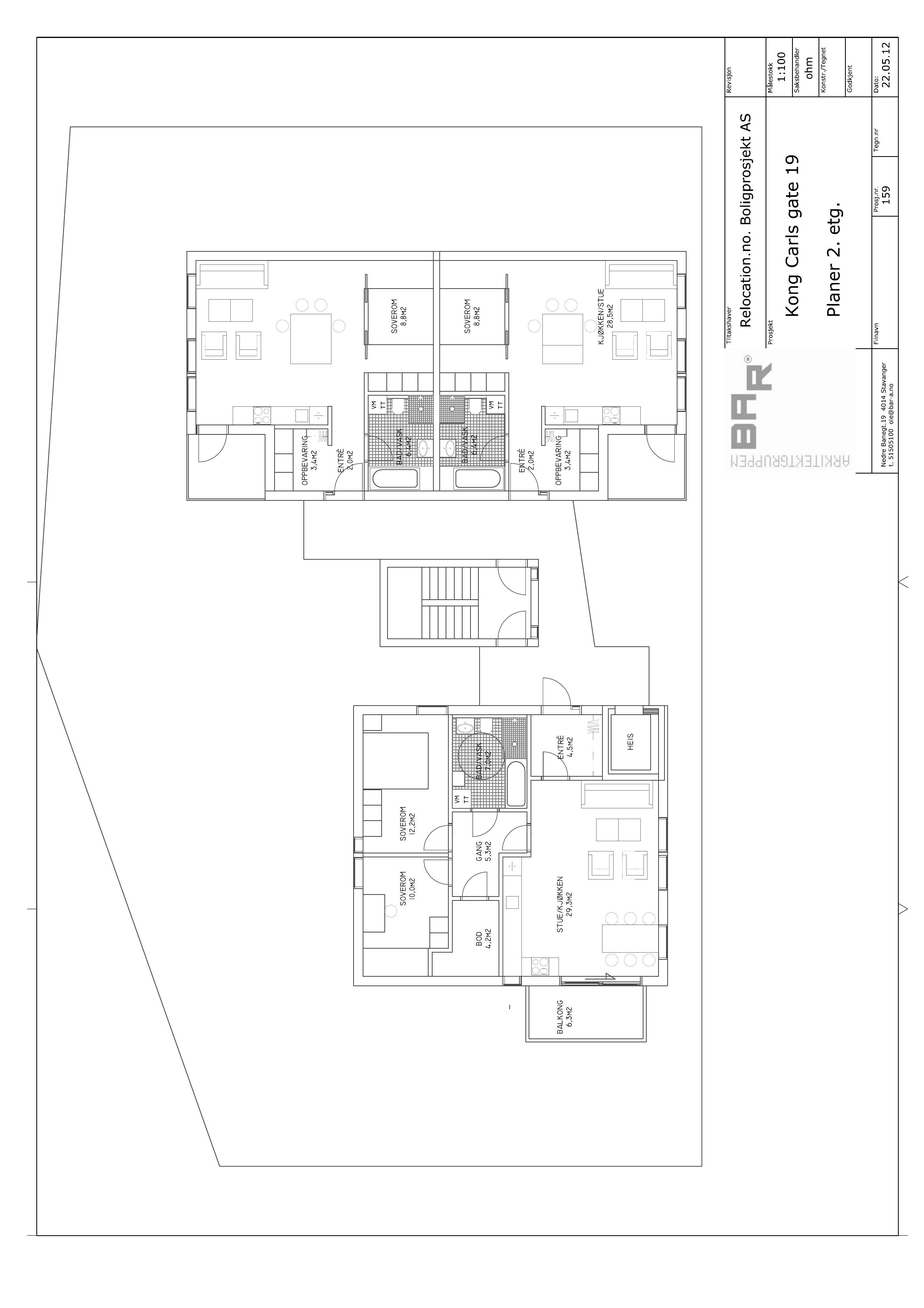plantegning: (183, 247, 689, 1046)
